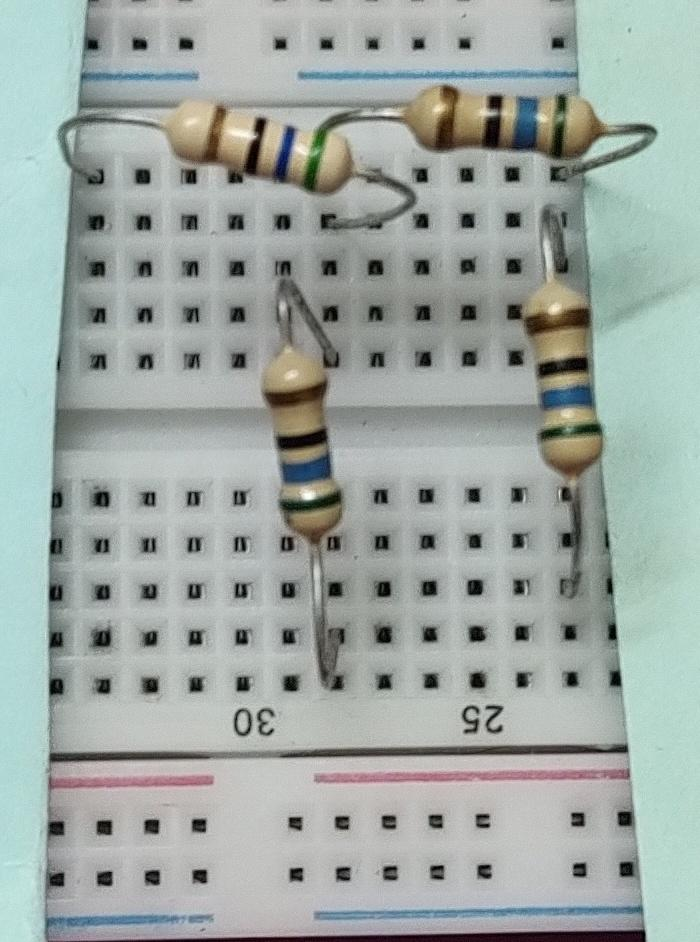resistor: (513, 271, 623, 486), (155, 95, 359, 204), (395, 71, 611, 166), (255, 345, 349, 542)
